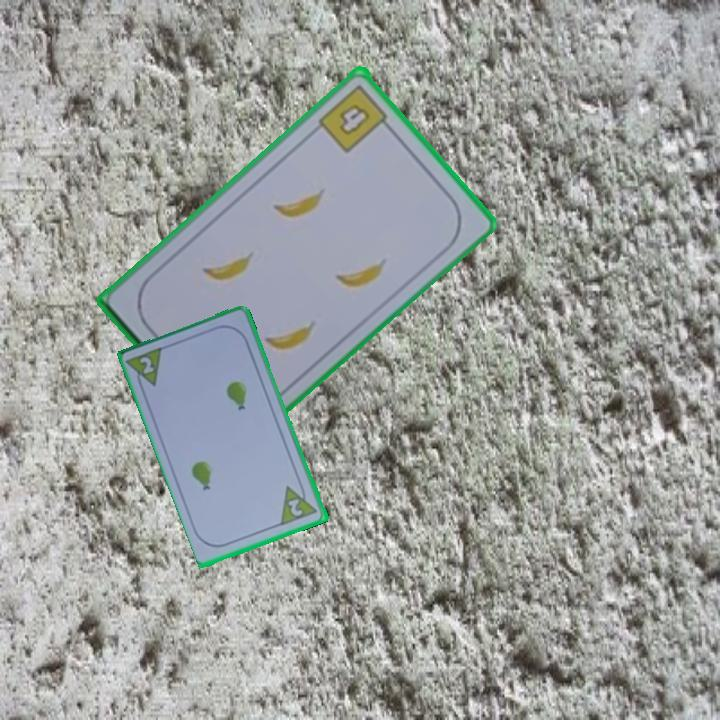2p: (124, 343, 167, 395), (277, 478, 321, 528)
4b: (315, 79, 395, 156)
